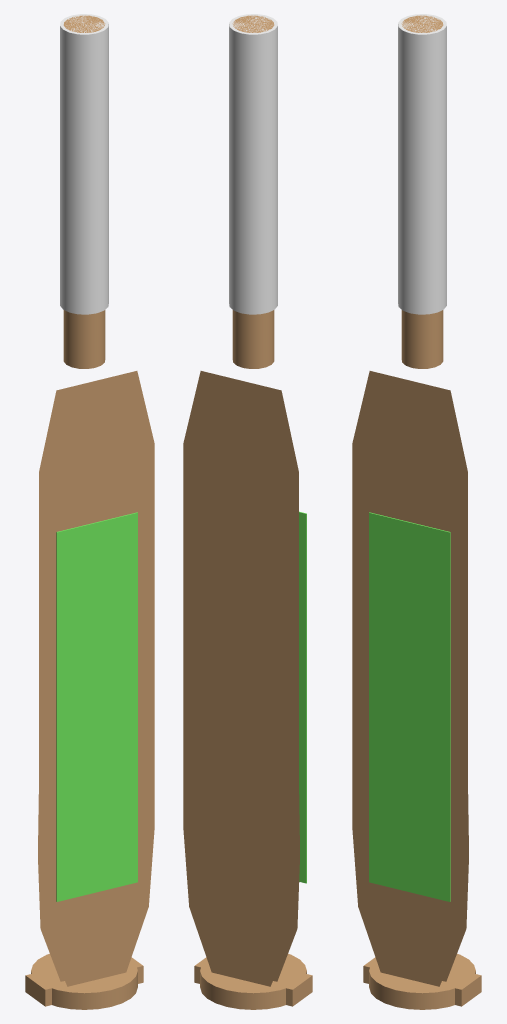
Rendered from cricket-bat.glb.
The picture shows the model from 3 angles, left to right: view 1: azimuth 30°, elevation 25°; view 2: azimuth 150°, elevation 25°; view 3: azimuth 330°, elevation 25°; orthographic projection.
Parts seen in each view (by area): view 1: Bat_Body, Bat_Sticker, Bat_Grip, Bat_Toe_Round, Bat_Toe_Flat, Bat_Profile_Duckbill; view 2: Bat_Body, Bat_Grip, Bat_Sticker, Bat_Toe_Round, Bat_Toe_Flat, Bat_Profile_Duckbill; view 3: Bat_Body, Bat_Sticker, Bat_Grip, Bat_Toe_Round, Bat_Toe_Flat, Bat_Profile_Duckbill.
Part boxes in pixels (x1,y1,x2,y2): Bat_Body: (39,15,154,986); Bat_Sticker: (56,512,137,901); Bat_Grip: (60,14,108,314); Bat_Toe_Round: (31,953,137,1009); Bat_Toe_Flat: (25,957,143,1006); Bat_Profile_Duckbill: (38,794,64,981); Bat_Body: (183,15,298,986); Bat_Grip: (229,14,277,314); Bat_Sticker: (299,511,306,883); Bat_Toe_Round: (200,953,306,1009); Bat_Toe_Flat: (194,957,312,1006); Bat_Profile_Duckbill: (273,794,299,981); Bat_Body: (352,15,467,986); Bat_Sticker: (369,512,450,901); Bat_Grip: (398,14,446,314); Bat_Toe_Round: (369,953,475,1009); Bat_Toe_Flat: (363,957,481,1006); Bat_Profile_Duckbill: (442,794,468,981).
Bounding box in the file's own units: 0.108 × 0.86 × 0.0864.
